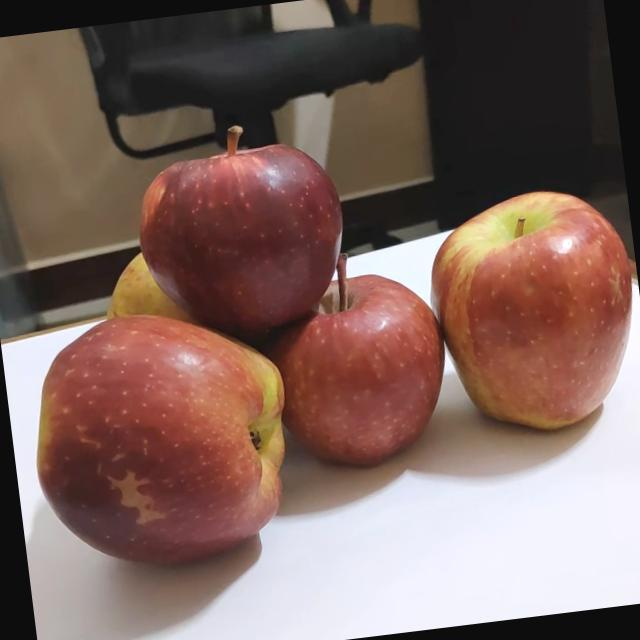apple: (16, 294, 316, 588), (421, 178, 640, 439), (127, 109, 363, 348), (254, 240, 459, 481), (80, 226, 248, 349)
